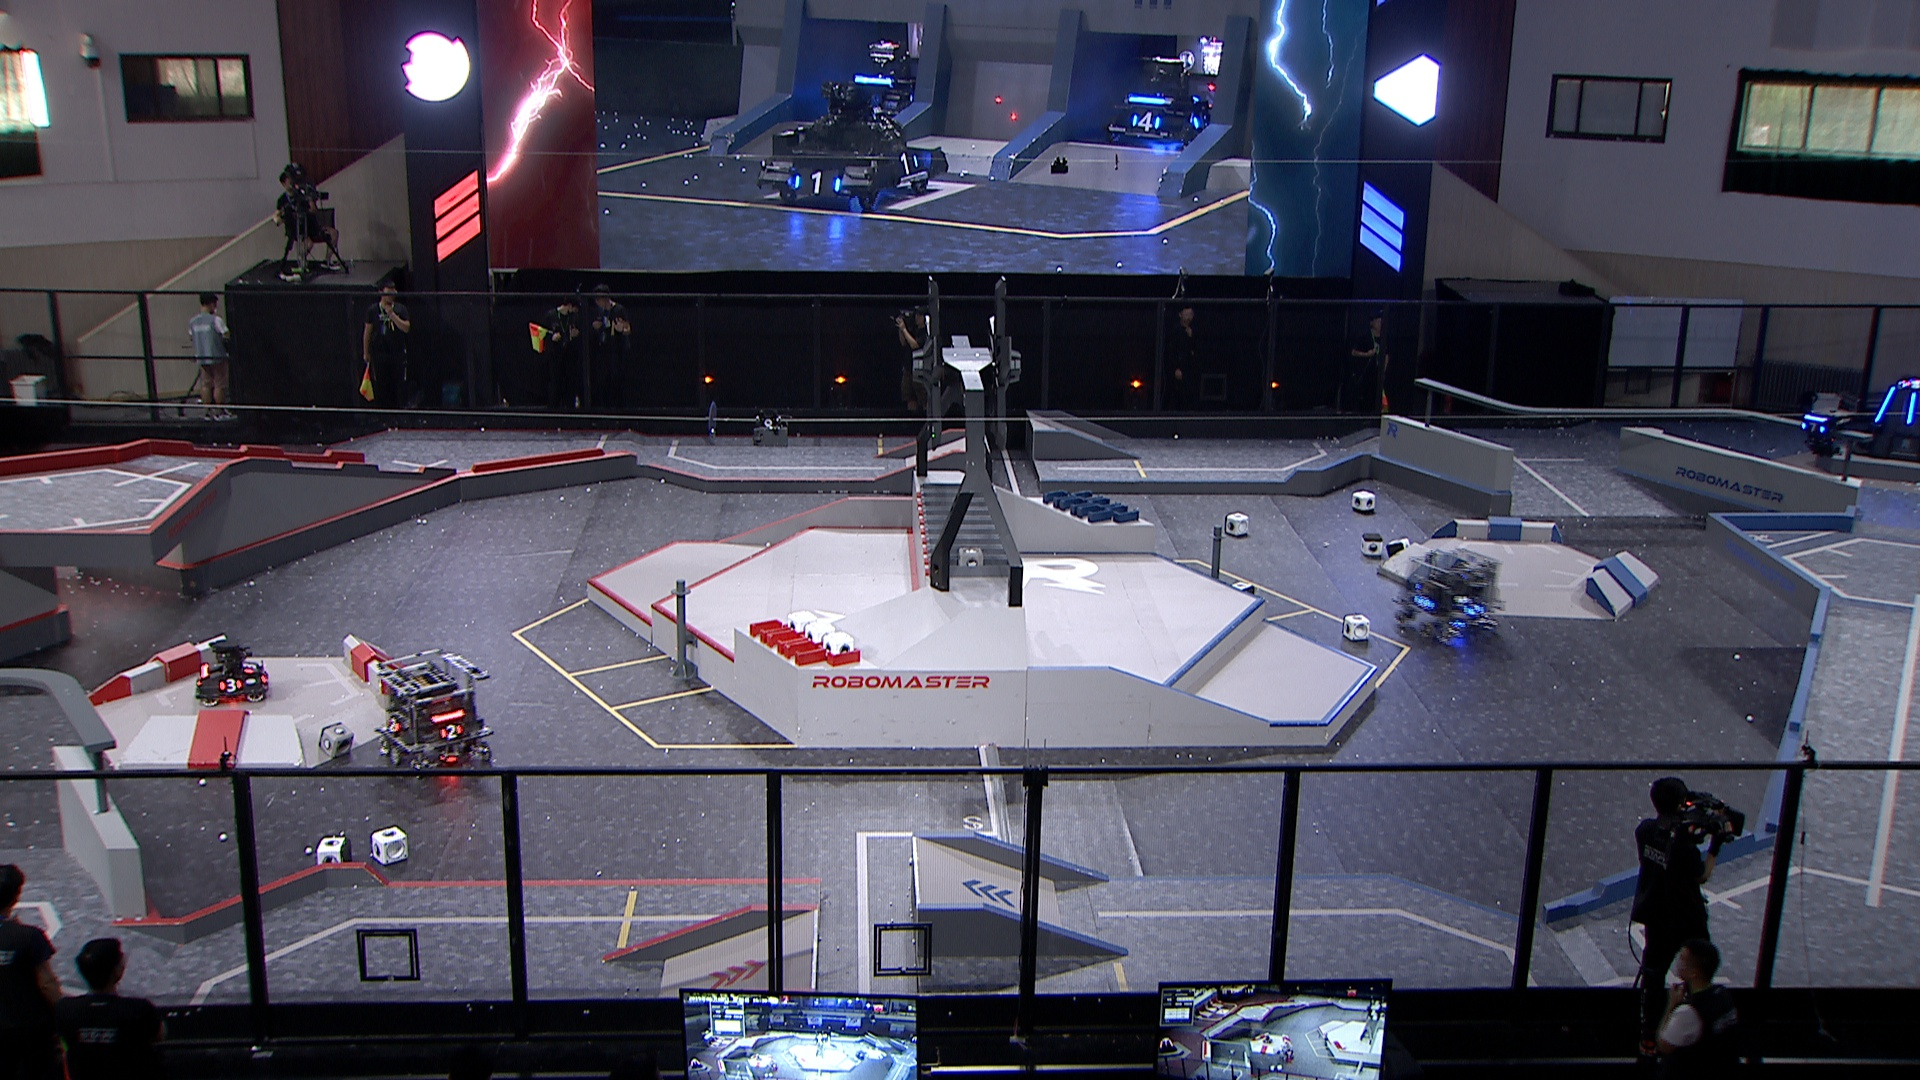armor: (1873, 384, 1898, 422), (436, 723, 463, 742), (1797, 419, 1826, 436), (216, 678, 244, 694), (1410, 593, 1433, 612), (1907, 392, 1917, 425), (237, 661, 258, 675), (1462, 604, 1485, 617), (386, 717, 404, 735)
base: (1847, 375, 1920, 463)
car: (371, 646, 498, 782), (1389, 546, 1509, 647), (190, 637, 276, 705)
ignore: (752, 79, 945, 214), (1102, 55, 1216, 154), (843, 38, 923, 116), (1899, 377, 1920, 392)
watcher: (1793, 409, 1851, 467)
